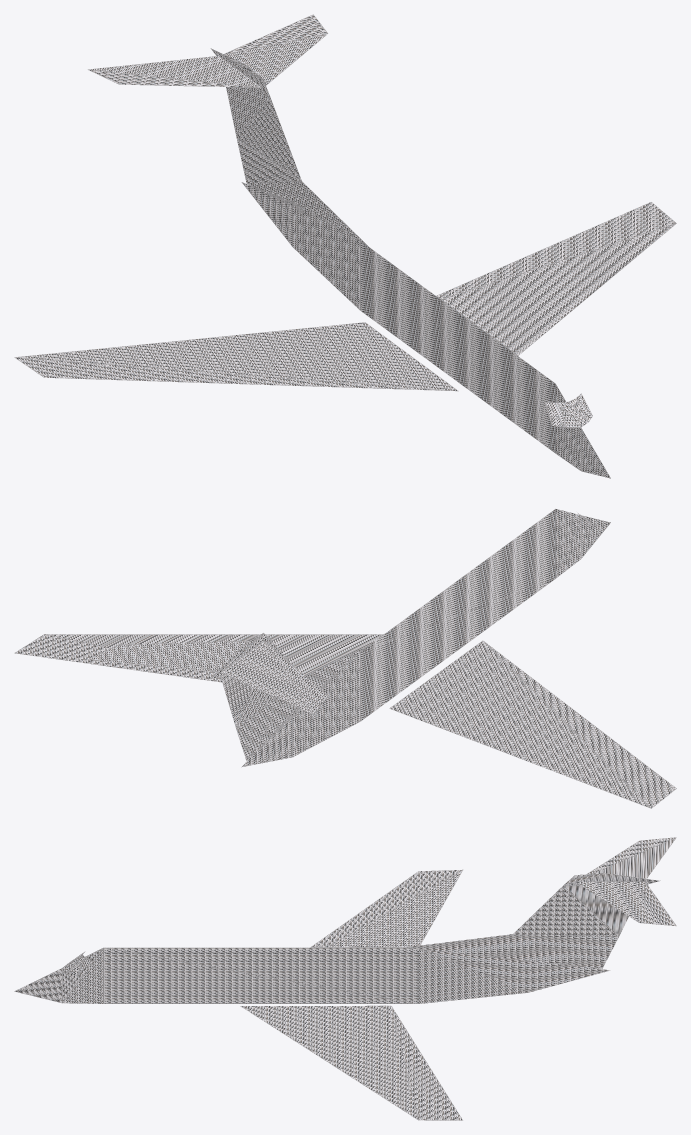
File: HTAI Gulfstream G-III MSFS_LOD1.gltf
3 renders of one model, top to bottom at view 1: azimuth 30°, elevation 25°; view 2: azimuth 150°, elevation 25°; view 3: azimuth 270°, elevation 25°, orthographic. The views are drawn at different scales.
Visible parts, largest first — view 1: node1; view 2: node1; view 3: node1.
Part boxes in pixels (<box>): node1: <box>14,14,676,478</box>; node1: <box>14,509,676,808</box>; node1: <box>14,837,676,1120</box>.
Bounding box in the file's own units: 23.22 × 5.63 × 25.92.
